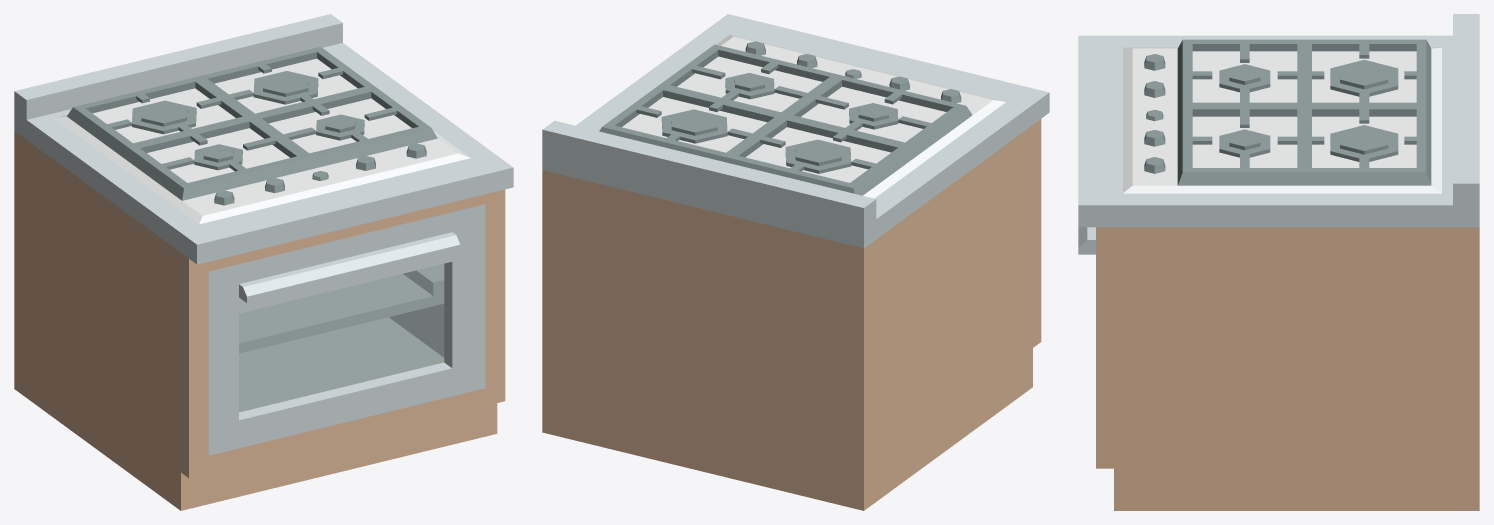
File: kitchenStove-col.glb
3 renders of one model, left to right at view 1: azimuth 30°, elevation 25°; view 2: azimuth 150°, elevation 25°; view 3: azimuth 270°, elevation 25°, orthographic. The views are drawn at different scales.
Visible parts, largest first — view 1: kitchenStove-col; view 2: kitchenStove-col; view 3: kitchenStove-col.
Boxes of the visible parts, x1=… form: kitchenStove-col: x1=14, y1=14, x2=513, y2=510; kitchenStove-col: x1=542, y1=14, x2=1049, y2=510; kitchenStove-col: x1=1078, y1=14, x2=1479, y2=510.
Size of the model in its own units: 0.5 by 0.45 by 0.5.
